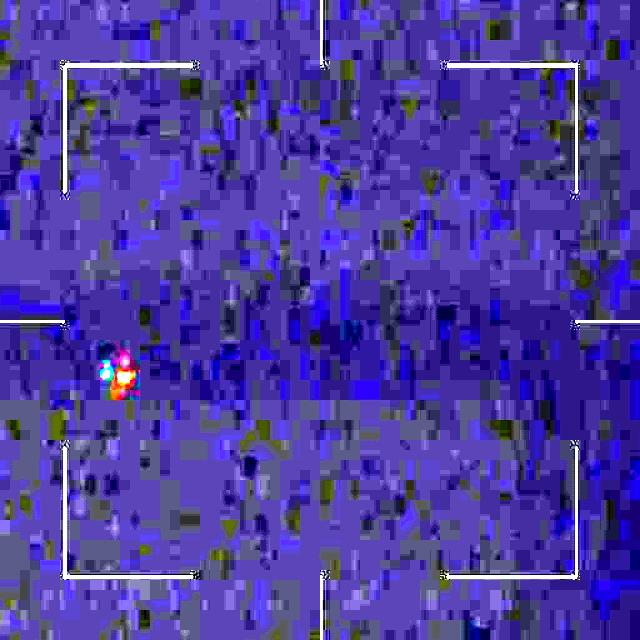bird: (100, 354, 134, 402)
